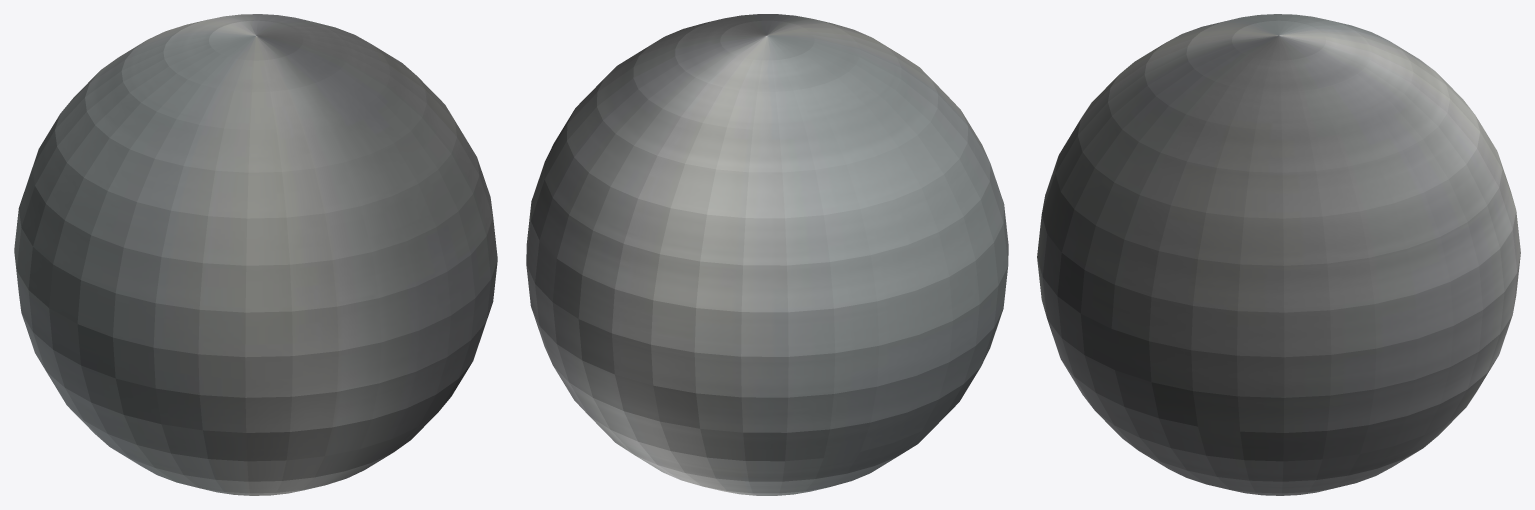
Rendered from ball3.obj.
3 views of the same model, side by side, from view 1: azimuth 30°, elevation 25°; view 2: azimuth 150°, elevation 25°; view 3: azimuth 270°, elevation 25° (orthographic).
Visible parts, largest first — view 1: Sphere; view 2: Sphere; view 3: Sphere.
Boxes of the visible parts, bbox=[...] form: Sphere: bbox=[14, 14, 497, 495]; Sphere: bbox=[526, 14, 1008, 495]; Sphere: bbox=[1037, 14, 1520, 495].
Bounding box in the file's own units: 2 × 2 × 2.
1 material, 1 textured.
